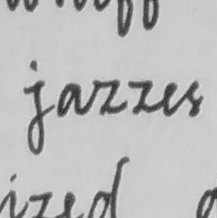a: (53, 80, 85, 120)
e: (159, 79, 179, 118)
j: (20, 77, 50, 157)
s: (182, 78, 205, 119)
z: (89, 76, 125, 118), (126, 77, 157, 117)
